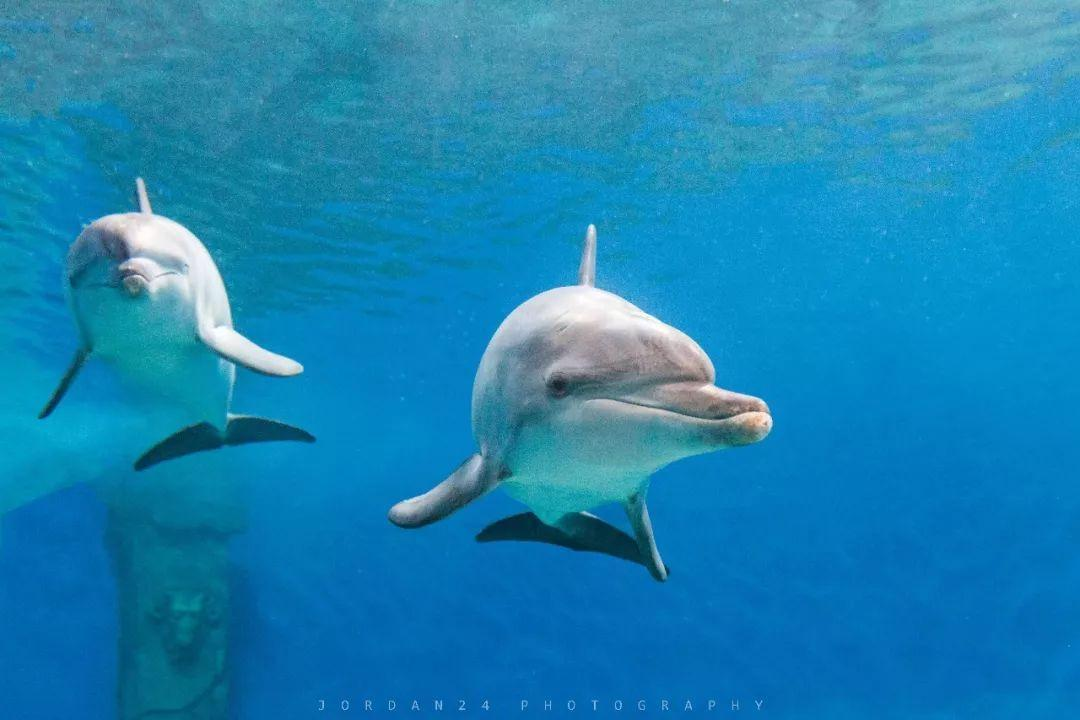fish: (384, 228, 772, 578), (29, 179, 312, 474)
